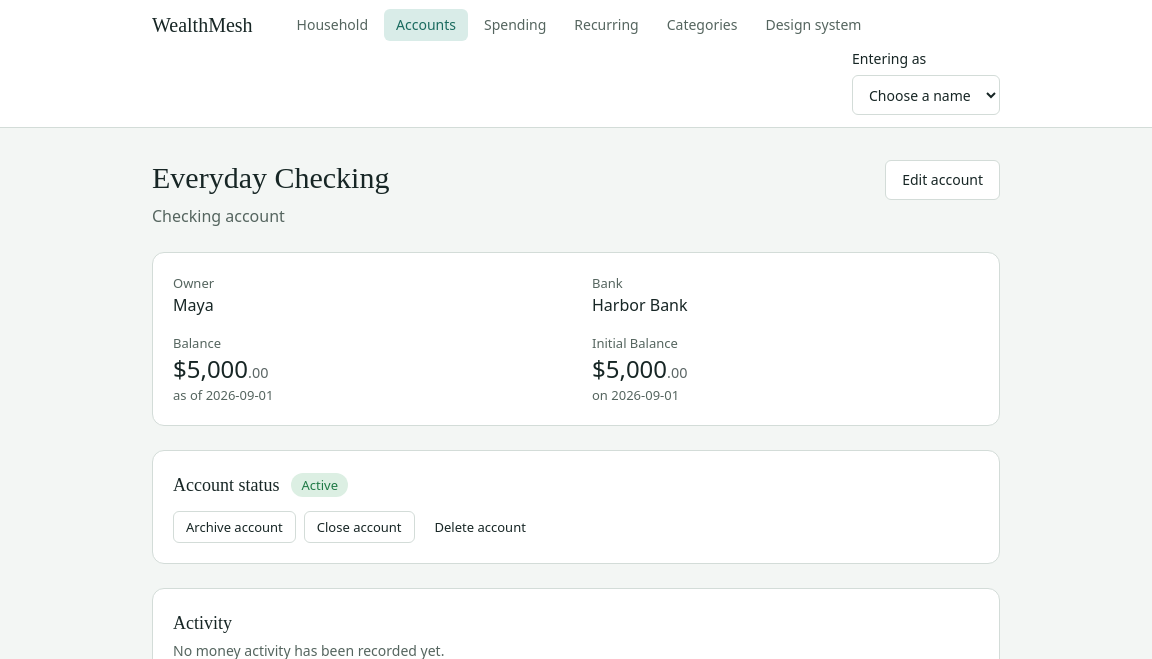
Test: the class on an expense › V2_CATEGORIES_006 an expense with no category is saved, listed as Uncategorized with a flag and no class
Select "Sam" in the dropdown labelled "Entering as" at (926, 95), box [852,75,1000,115]
(page scrolled)
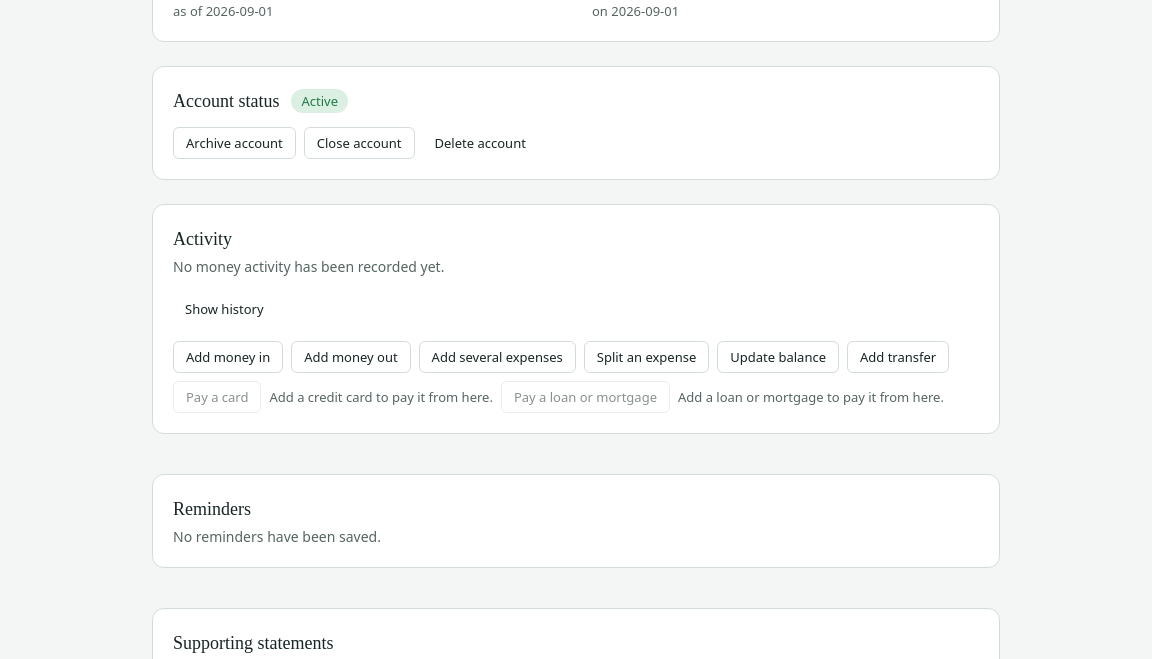
Click the button "Add money out" at (351, 357), box [291,341,411,373]
(page scrolled)
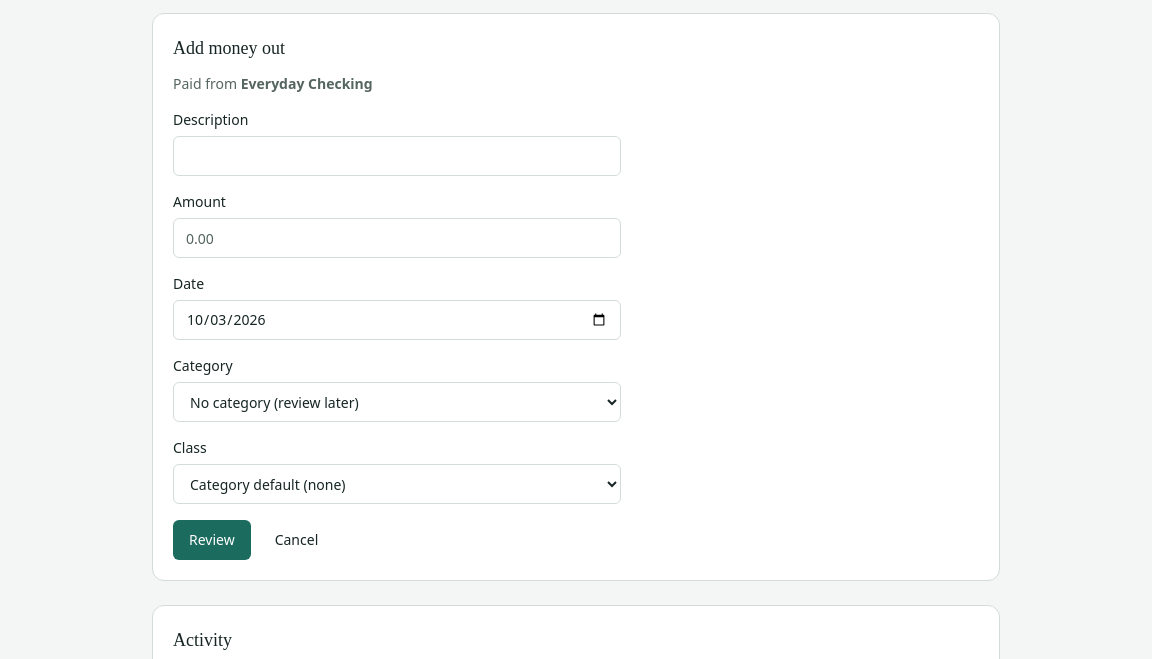
Type "125.00" into the field labelled "Amount" at (397, 238), box [173,218,621,258]
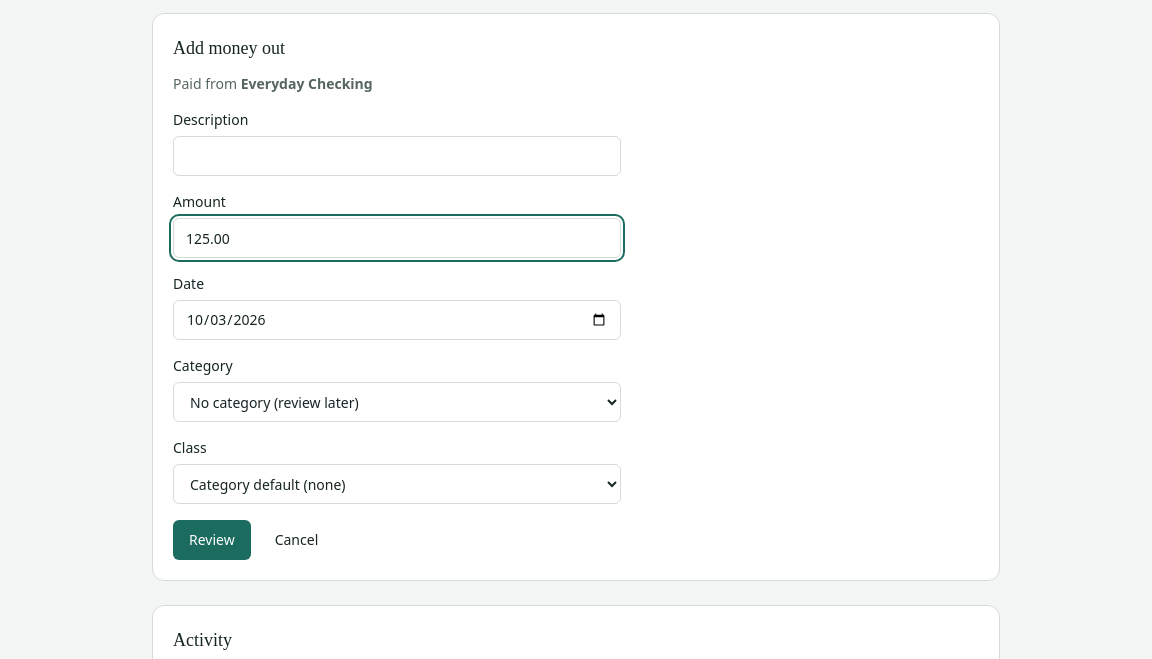
Type "2026-09-10" into the date field labelled "Date" at (397, 320), box [173,300,621,340]
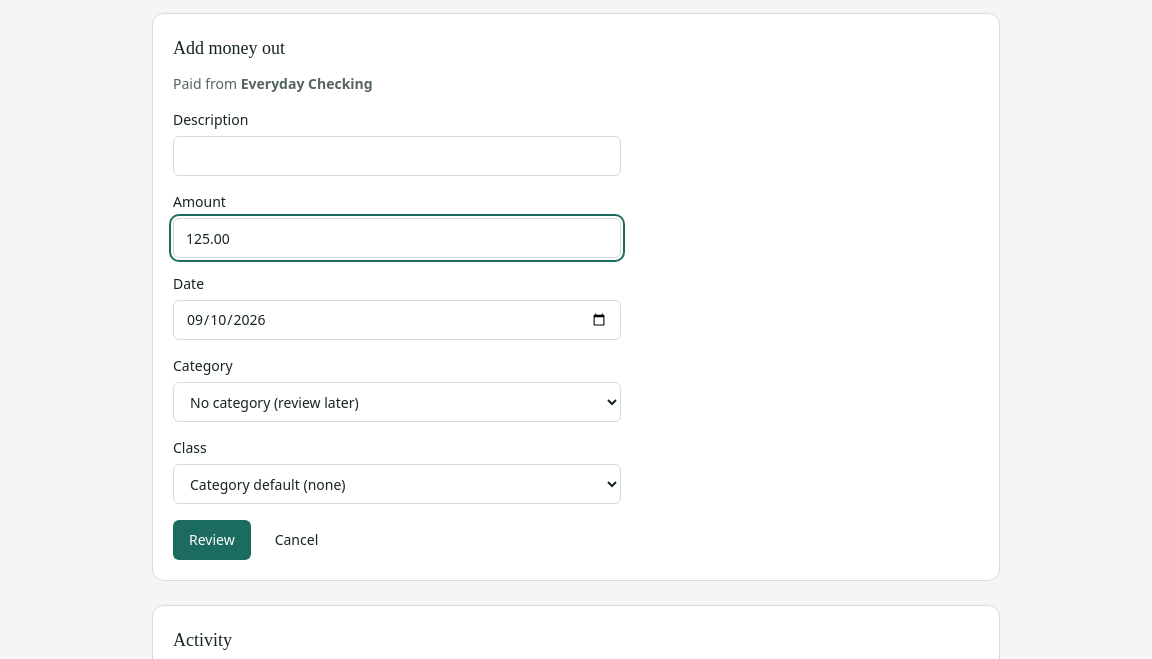
Result: the dropdown labelled "Category" shows "No category (review later)" at [173,382,621,422]
Click the button "Review" at (212, 540), box [173,520,251,560]
(page scrolled)
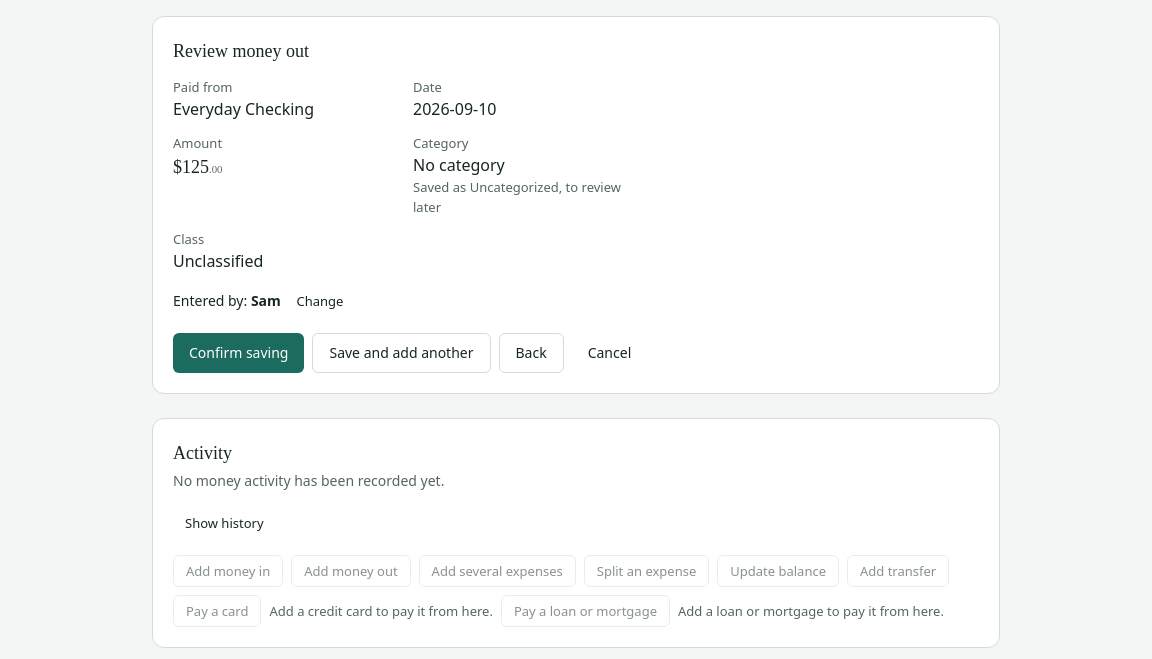
Result: the text "Saved as Uncategorized, to review later" is shown at [413,177,621,217]
Click the button "Confirm saving" at (239, 353), box [173,333,304,373]
(page scrolled)
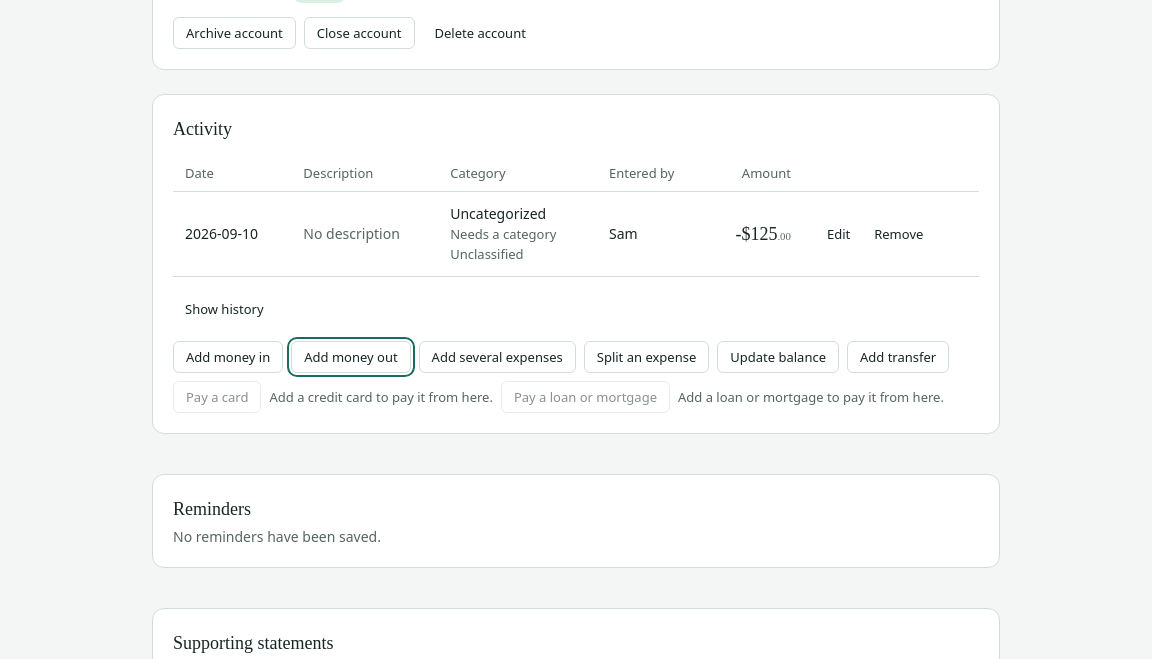
Result: the text "Unclassified" is shown at [450,245,524,263]
Result: the text "Uncategorized" is shown at [450,204,546,223]
